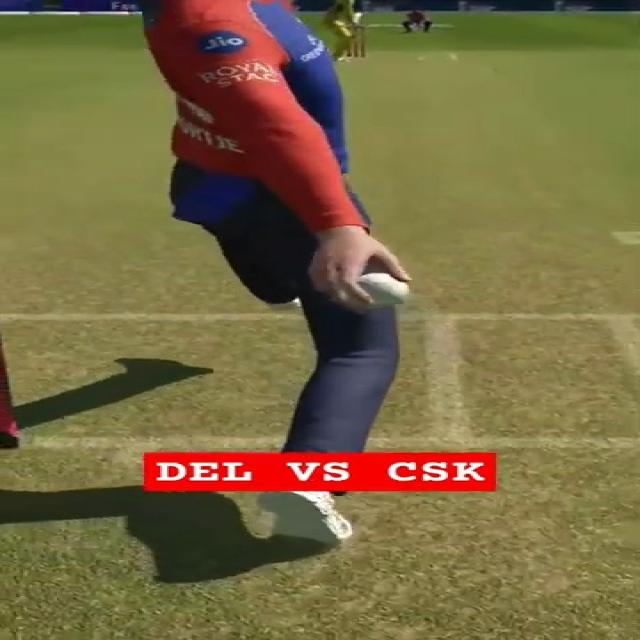ball: (338, 271, 407, 307)
